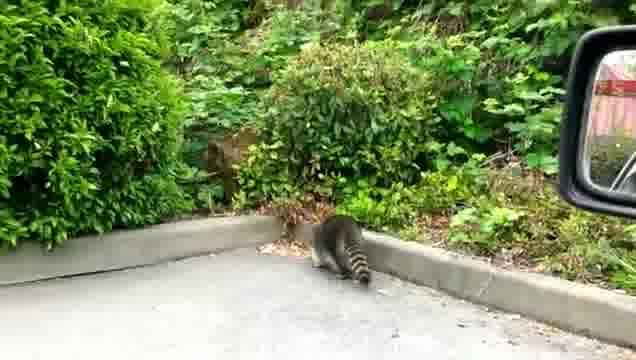raccoon: (307, 213, 378, 287)
